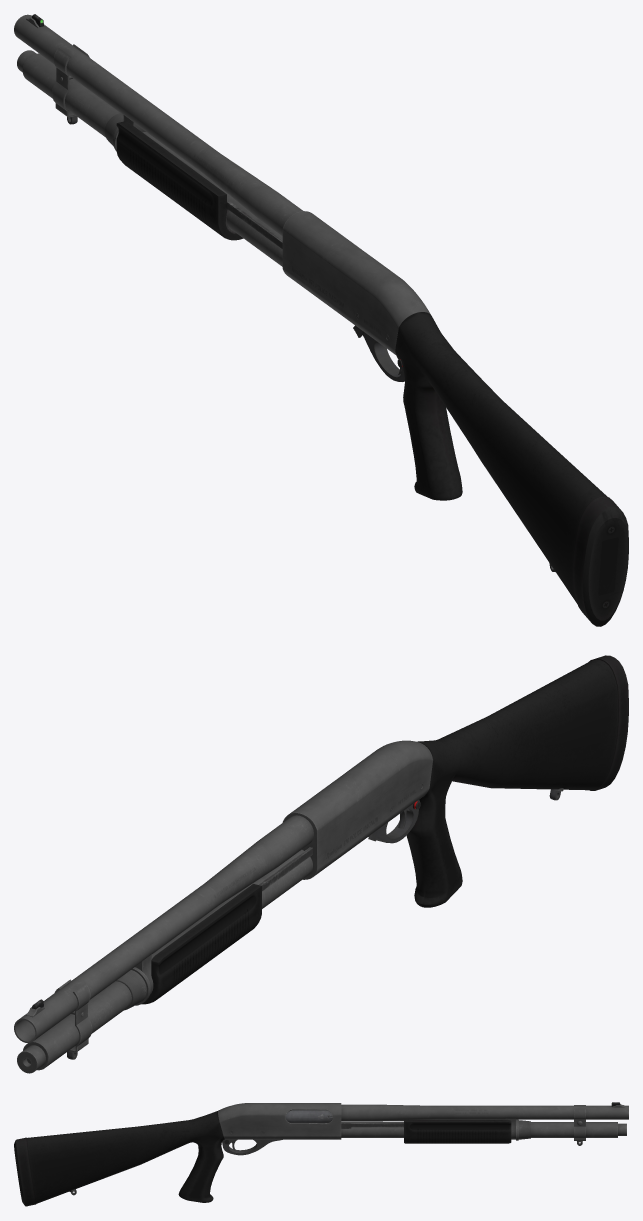
The model's file is m870-8siandude.glb.
3 renders of one model, top to bottom at view 1: azimuth 30°, elevation 25°; view 2: azimuth 150°, elevation 25°; view 3: azimuth 270°, elevation 25°, orthographic. The views are drawn at different scales.
Visible parts, largest first — view 1: Object_4; view 2: Object_4; view 3: Object_4.
Boxes of the visible parts, <box> form: Object_4: <box>14,14,628,626</box>; Object_4: <box>14,655,628,1073</box>; Object_4: <box>14,1102,628,1206</box>.
Size of the model in its own units: 0.4305 by 1.81 by 9.74.
1 material, 1 textured.
